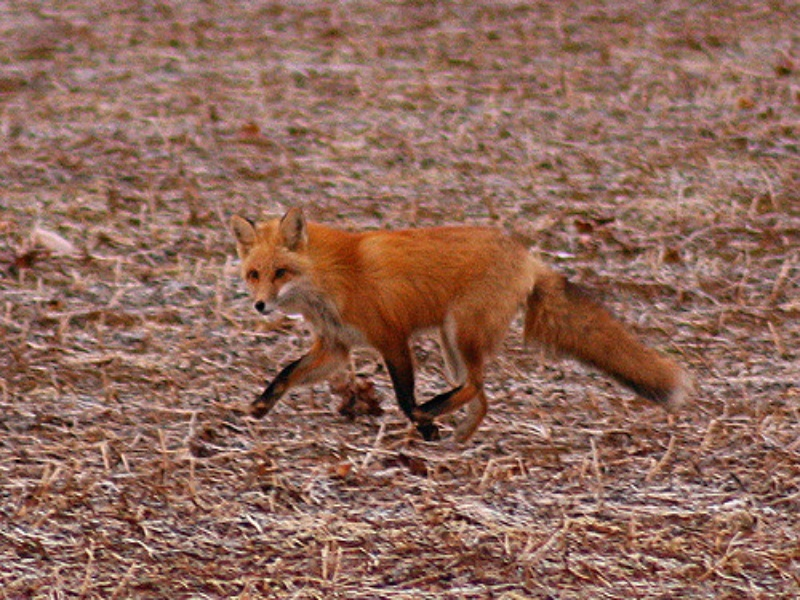fox: (222, 212, 692, 460)
